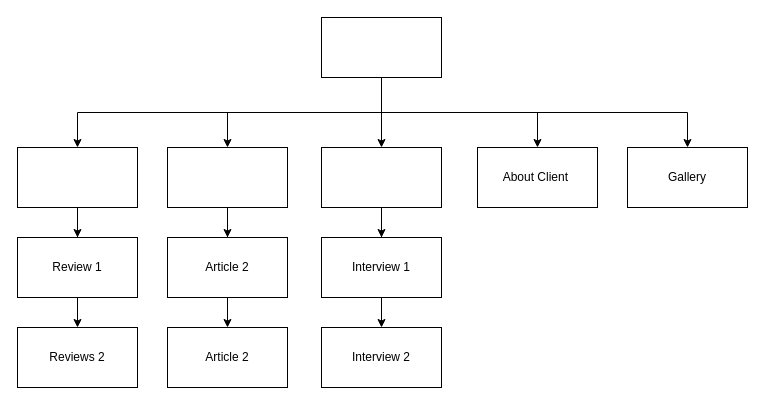
The diagram is 765 pixels wide and 405 high, and some of its shapes have lost their labels. Here are the shapes that lost their labels. From the top down, the centre of each, then its label:
At (381,47): "Home".
At (77,177): "Reviews Navigation".
At (227,177): "Articles Navigation".
At (381,177): "Interview Navigation".
